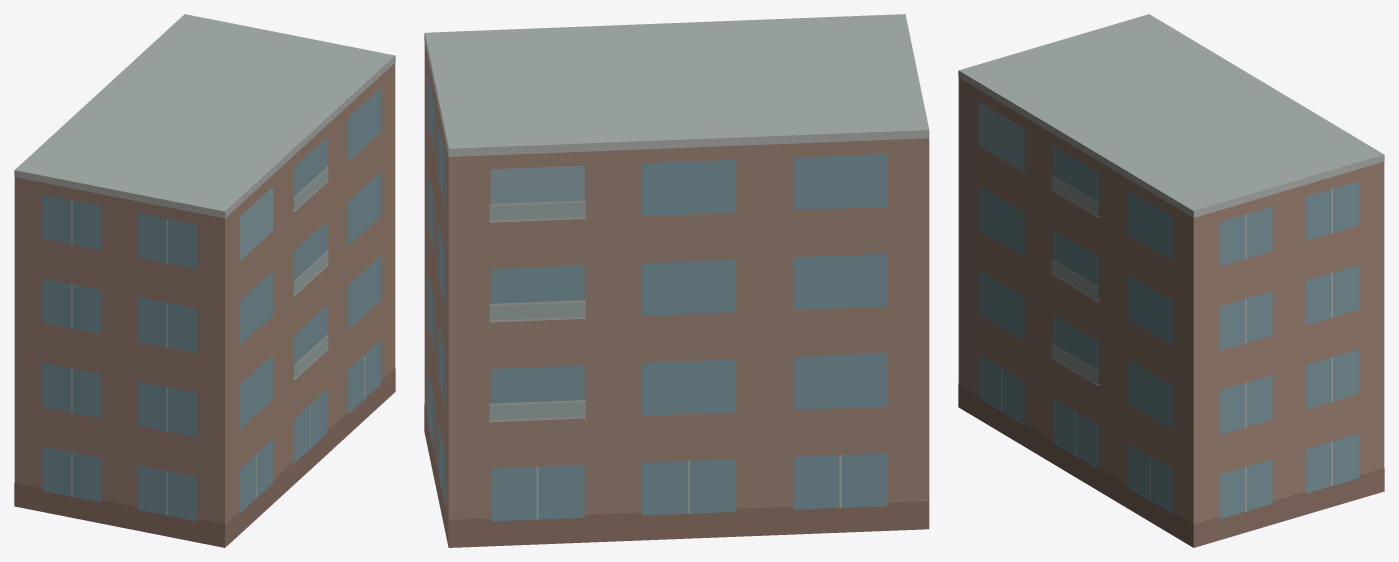
Rendered from survey-upis-32805088.glb.
3 renders of one model, left to right at view 1: azimuth 30°, elevation 25°; view 2: azimuth 150°, elevation 25°; view 3: azimuth 270°, elevation 25°, orthographic. The views are drawn at different scales.
Visible parts, largest first — view 1: survey-upis-32805088.tmp; view 2: survey-upis-32805088.tmp; view 3: survey-upis-32805088.tmp.
Part boxes in pixels (bbox=[...]): survey-upis-32805088.tmp: bbox=[14, 14, 395, 547]; survey-upis-32805088.tmp: bbox=[424, 14, 929, 547]; survey-upis-32805088.tmp: bbox=[958, 14, 1384, 547].
Bounding box in the file's own units: 14.94 × 11.9 × 13.65.
